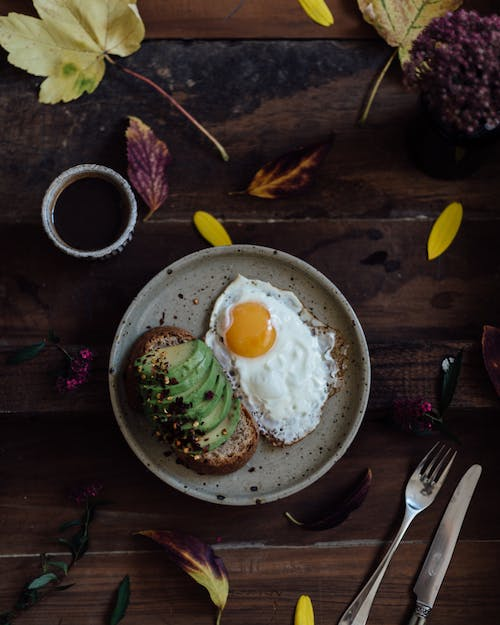knife: (406, 460, 485, 625)
